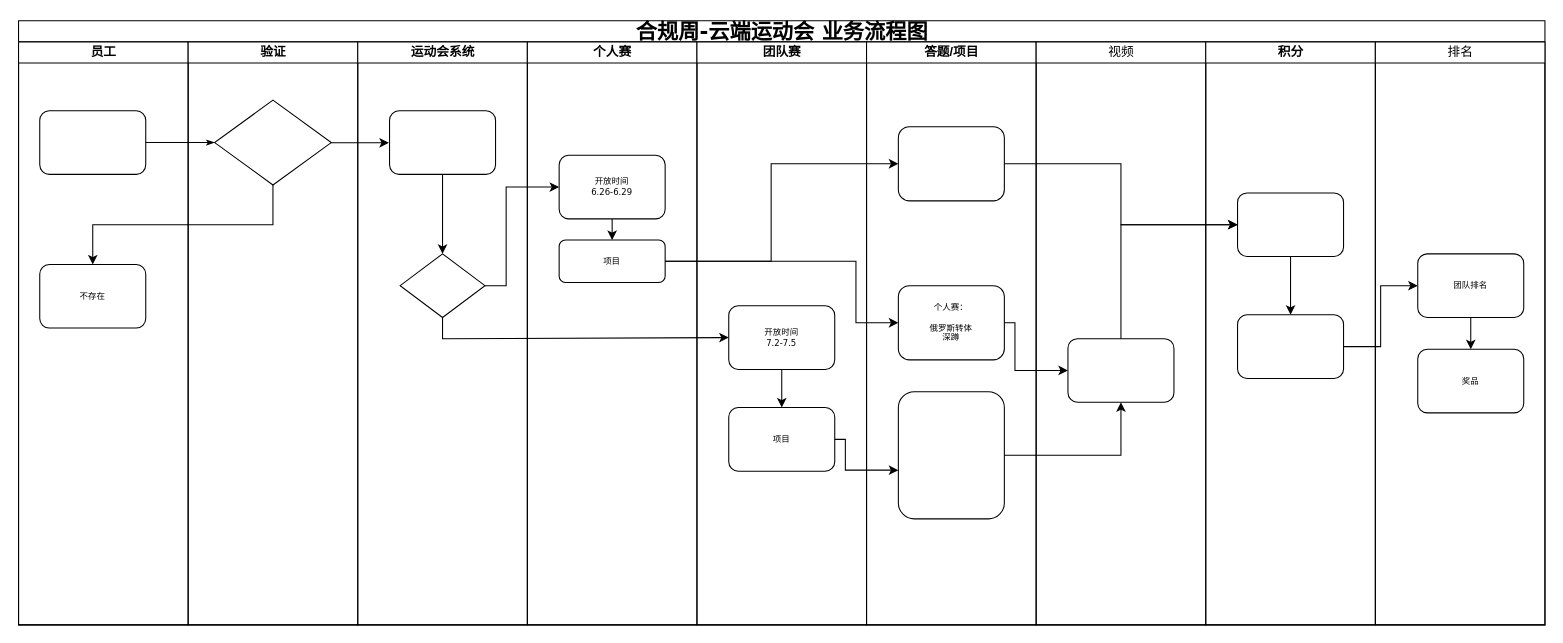
This 1563x643 diagram has some shape labels left out. The shapes that lost their labels are listed below. From the top down, each one's centre as x and y in pixels, then its label:
At (x=92, y=142): "员工登陆页".
At (x=272, y=142): "白名单".
At (x=442, y=142): "合规主页".
At (x=950, y=163): "题目类型： 单选 判断 多选".
At (x=1290, y=224): "个人积分".
At (x=442, y=285): "时间".
At (x=1290, y=346): "团队积分".
At (x=1120, y=370): "视频采集".
At (x=950, y=455): "团队赛 高抬腿 仰卧起坐 平板支撑 俯卧撑 开合跳".
